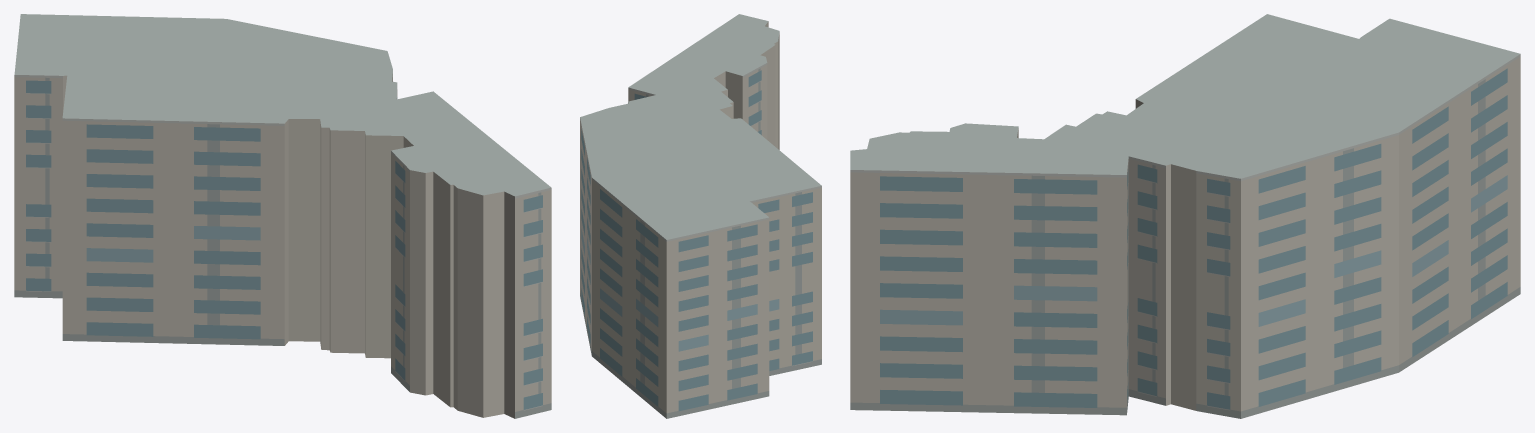
The model's file is survey-upis-32601179.glb.
The picture shows the model from 3 angles, left to right: view 1: azimuth 30°, elevation 25°; view 2: azimuth 150°, elevation 25°; view 3: azimuth 270°, elevation 25°; orthographic projection. The views are drawn at different scales.
Visible parts, largest first — view 1: survey-upis-32601179.tmp; view 2: survey-upis-32601179.tmp; view 3: survey-upis-32601179.tmp.
Boxes of the visible parts, left/top/right/bottom form: survey-upis-32601179.tmp: left=14, top=14, right=551, bottom=418; survey-upis-32601179.tmp: left=580, top=14, right=821, bottom=418; survey-upis-32601179.tmp: left=850, top=14, right=1520, bottom=418.
Bounding box in the file's own units: 34.75 × 23.6 × 59.74.
